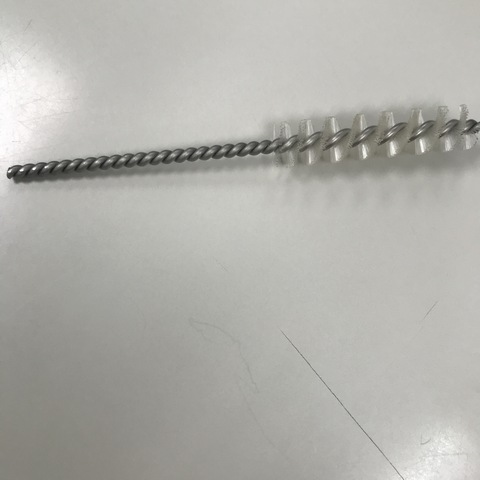Twist Brush-B: (5, 98, 478, 186)
